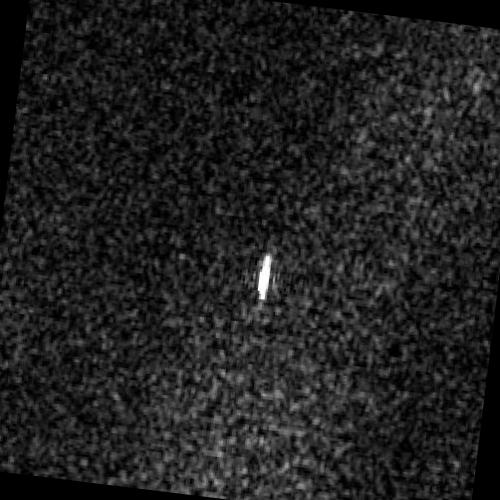ship: (256, 254, 271, 303)
